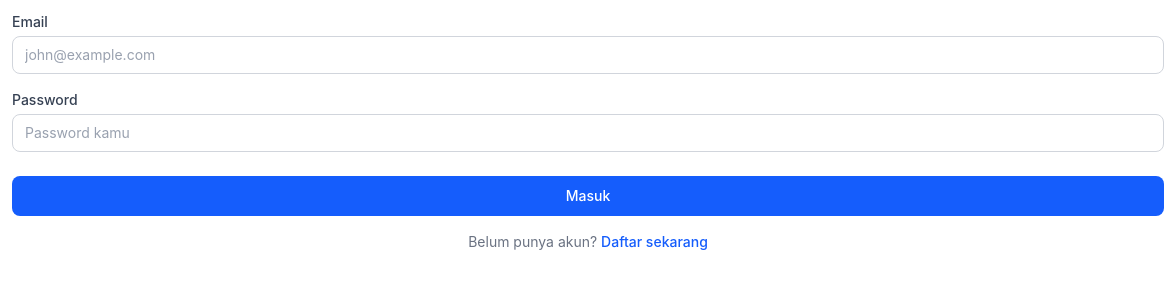
Test: LoginForm component › form validation › should show validation errors for both fields when form is submitted empty
The width and height of the screenshot is (1176, 307).
Click the button "Masuk" at (588, 196), box [12,176,1164,216]
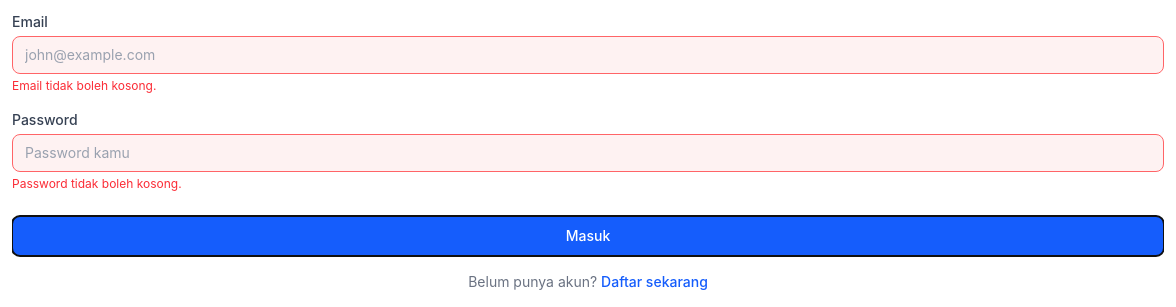
Check: the text "Email tidak boleh kosong." is shown, box [12,78,156,93]
Check: the text "Password tidak boleh kosong." is shown, box [12,176,182,191]
